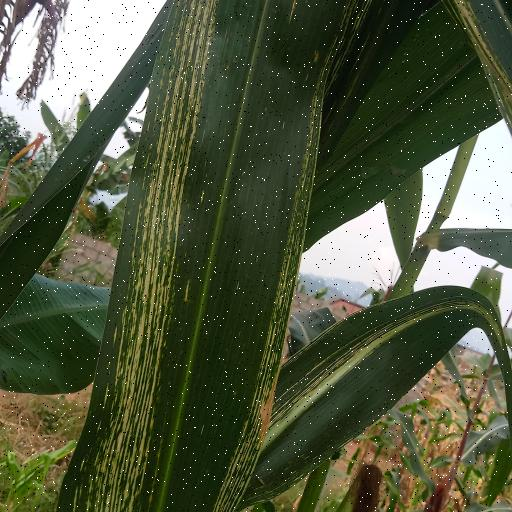Corn_Streak: (53, 0, 373, 512)
